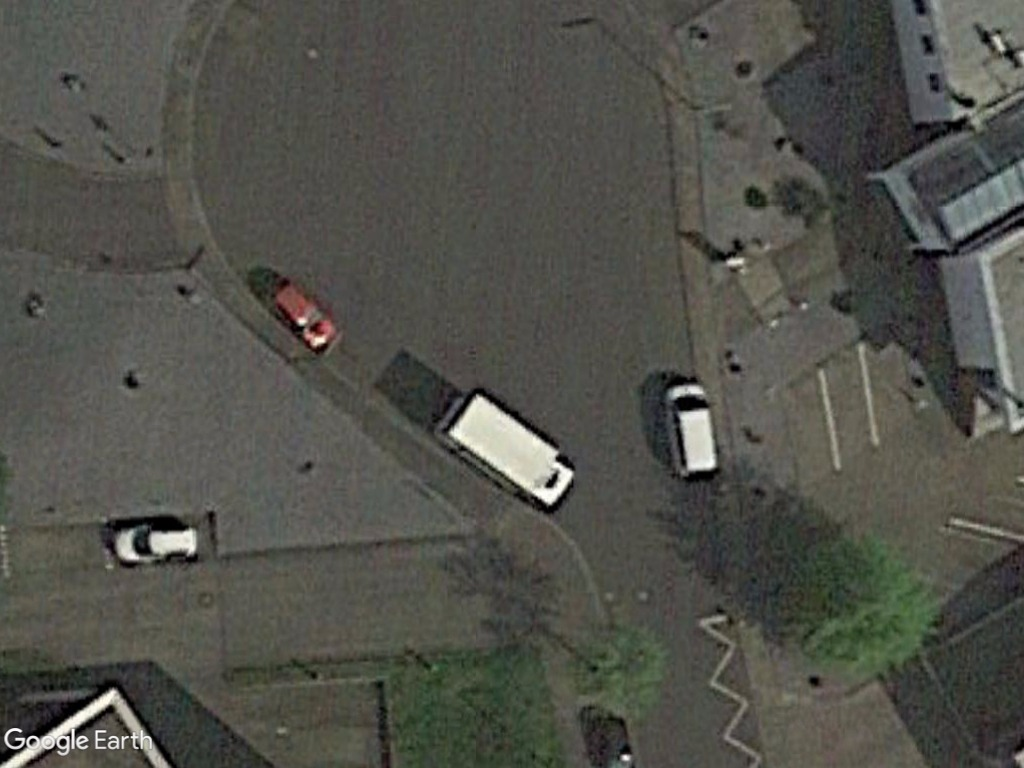truck: (435, 376, 578, 520)
van: (657, 376, 725, 485), (108, 518, 206, 571)
